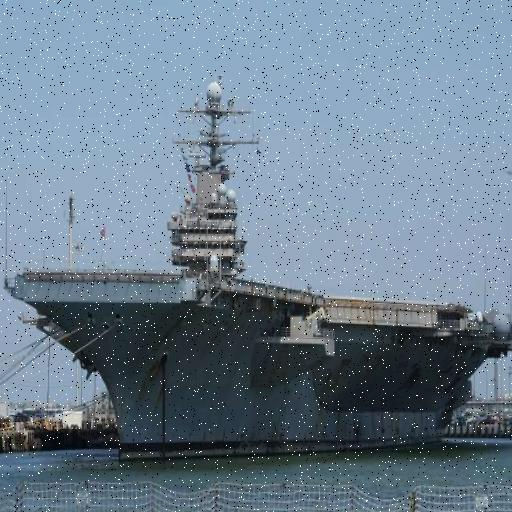Portanaves: (13, 77, 512, 466)
